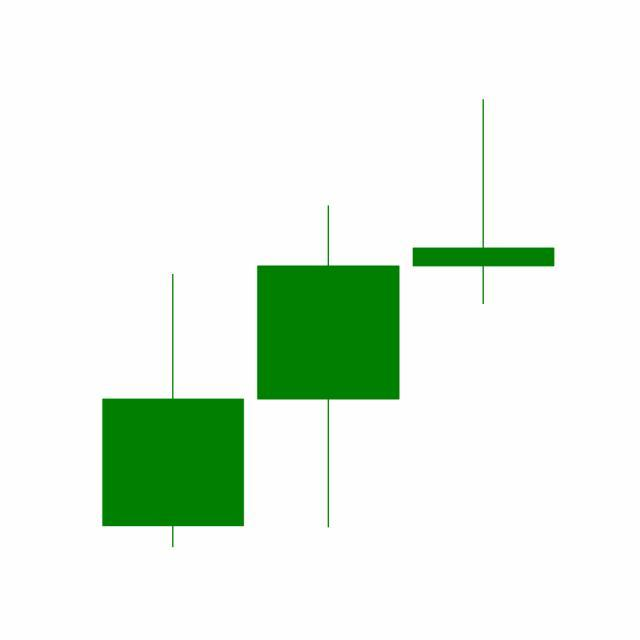Spinning Top: (406, 98, 562, 308)
